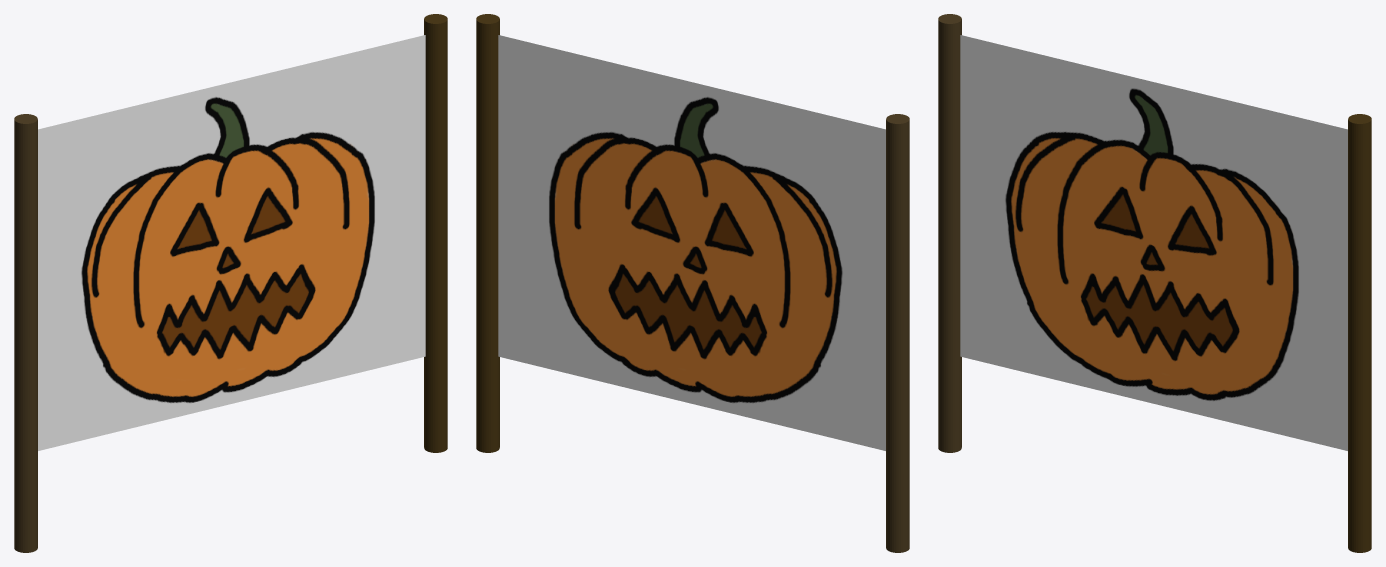
File: Funfact_Ireland.glb
3 views of the same model, side by side, from view 1: azimuth 30°, elevation 25°; view 2: azimuth 150°, elevation 25°; view 3: azimuth 330°, elevation 25° (orthographic).
Visible parts, largest first — view 1: Plane, Cylinder, Cylinder.001; view 2: Plane, Cylinder, Cylinder.001; view 3: Plane, Cylinder.001, Cylinder.
Boxes of the visible parts, x1,y1,x2,y2 form: Plane: [38, 35, 425, 450]; Cylinder: [14, 114, 37, 552]; Cylinder.001: [424, 14, 447, 452]; Plane: [498, 35, 885, 450]; Cylinder: [886, 114, 909, 552]; Cylinder.001: [476, 14, 499, 452]; Plane: [960, 35, 1347, 450]; Cylinder.001: [1348, 114, 1371, 552]; Cylinder: [938, 14, 961, 452].
Size of the model in its own units: 4.2 by 4 by 0.2.
3 materials, 1 textured.
